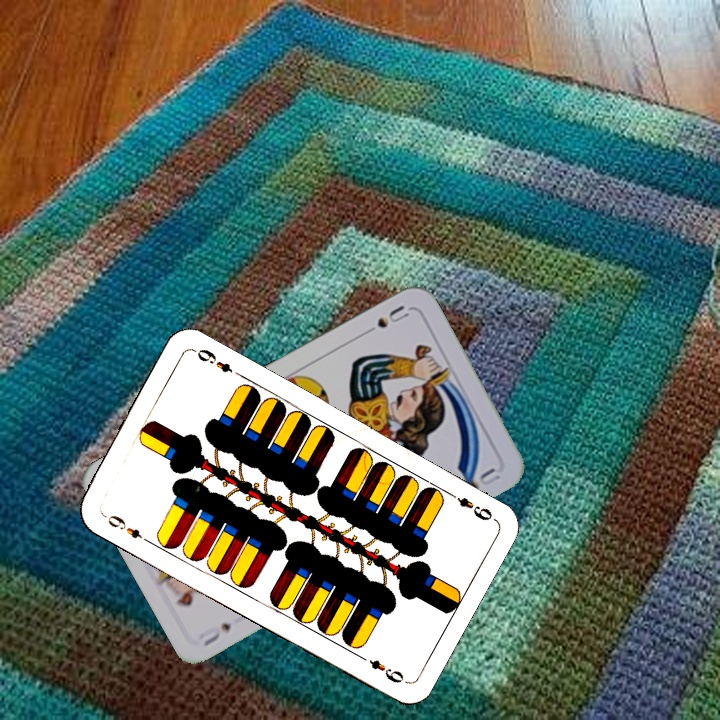E9: (443, 487, 497, 524), (99, 510, 152, 546)
SU: (358, 301, 412, 339), (195, 618, 234, 649)
